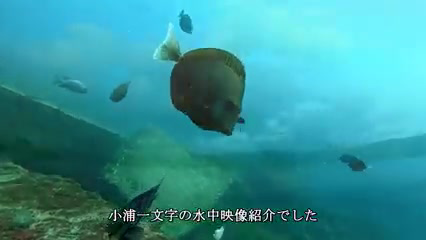kawahagi: (150, 32, 259, 136)
smallfish: (51, 73, 94, 100), (172, 3, 197, 37)
